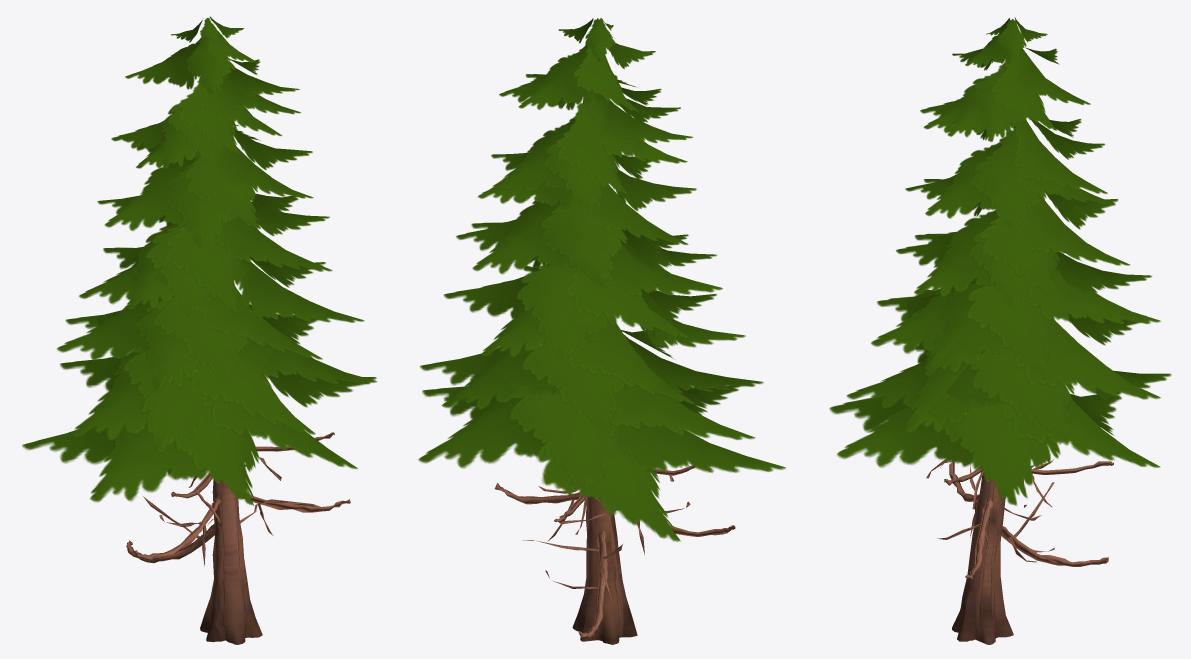
The model's file is Pine_1_ultra_fast.glb.
The picture shows the model from 3 angles, left to right: view 1: azimuth 30°, elevation 25°; view 2: azimuth 150°, elevation 25°; view 3: azimuth 270°, elevation 25°; orthographic projection. The views are drawn at different scales.
Parts seen in each view (by area): view 1: Pine_4; view 2: Pine_4; view 3: Pine_4.
Boxes of the visible parts, x1,y1,x2,y2 form: Pine_4: [22, 16, 376, 644]; Pine_4: [418, 18, 785, 644]; Pine_4: [829, 17, 1171, 644].
Bounding box in the file's own units: 5.81 × 10.24 × 5.37.
Materials: 2 (2 with a texture image).
